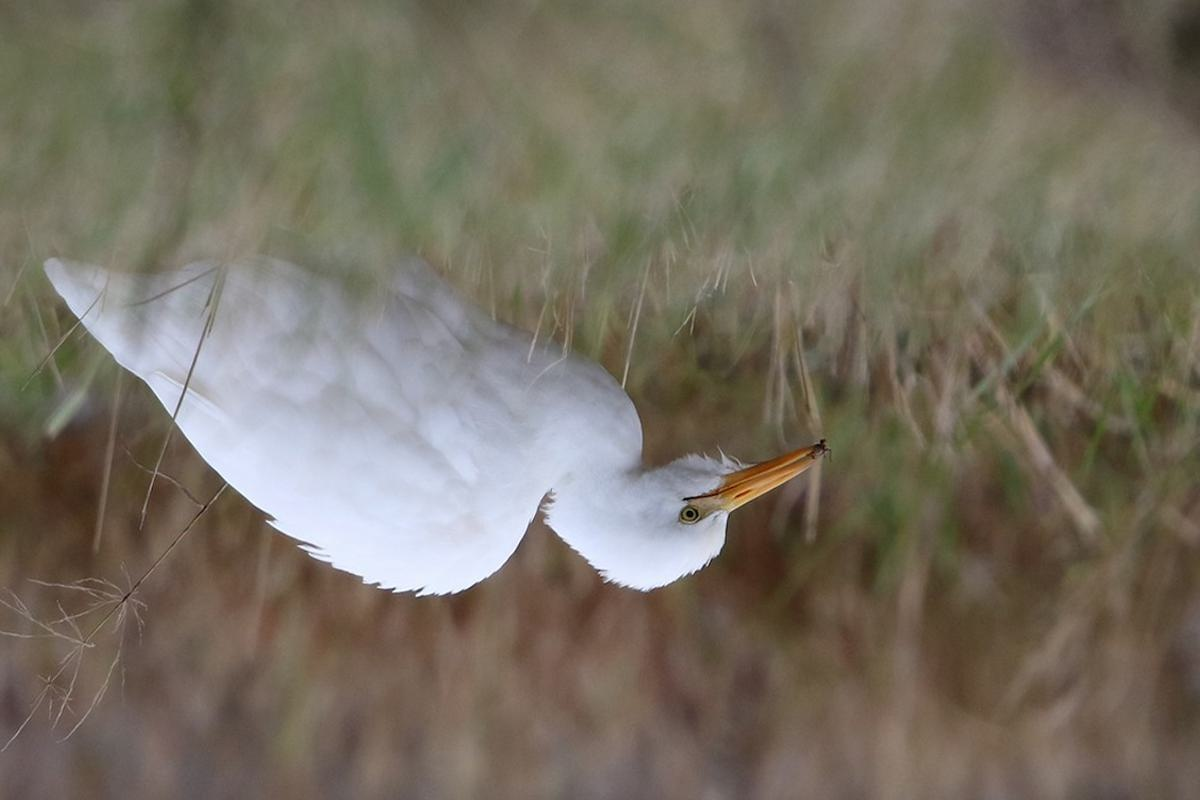egret: (49, 167, 823, 636)
